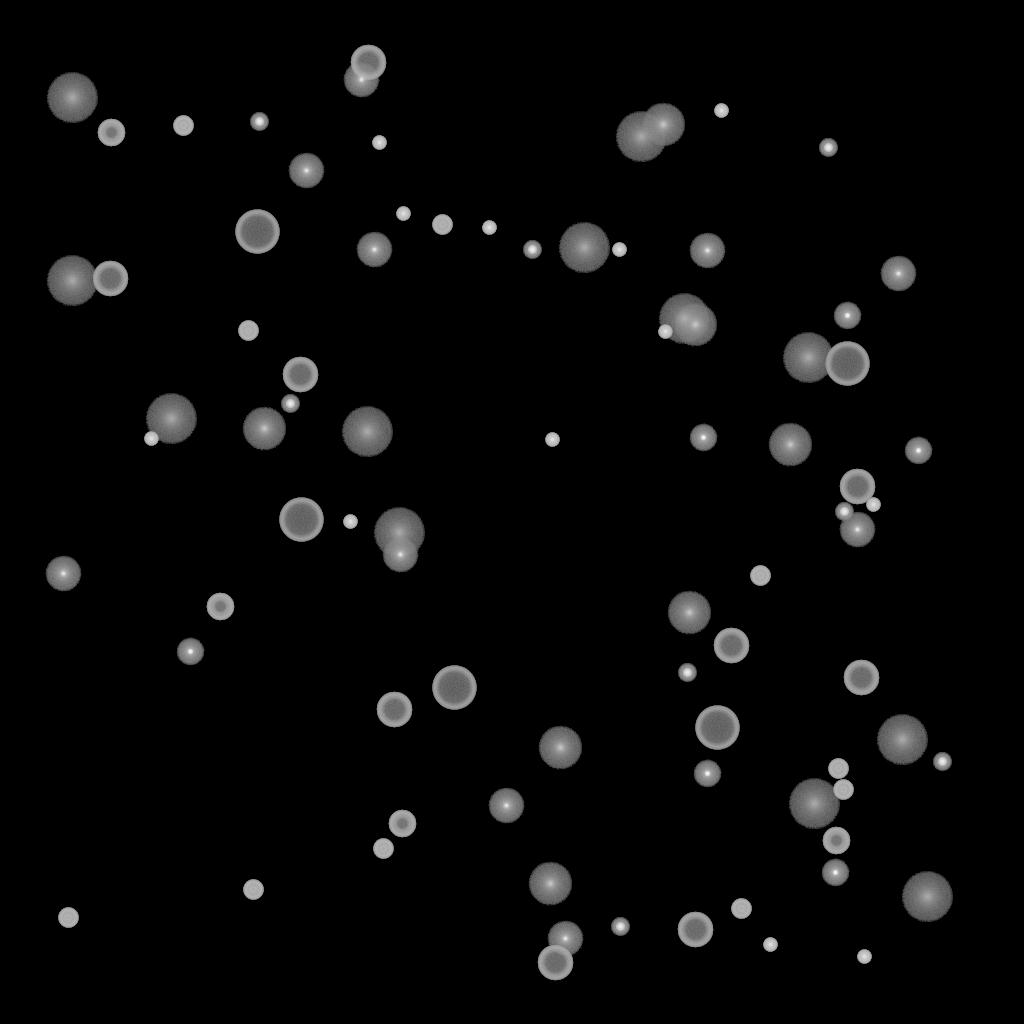depth:-10: (833, 302, 861, 330), (176, 638, 204, 666), (689, 424, 717, 452), (693, 760, 721, 788), (821, 859, 849, 887), (904, 437, 932, 465)
depth:-20: (933, 753, 951, 771), (523, 241, 541, 259), (678, 664, 696, 682), (835, 503, 853, 521), (611, 918, 629, 936), (250, 113, 268, 131), (281, 395, 299, 413), (819, 139, 837, 157)
depth:-30: (857, 950, 871, 964), (144, 432, 158, 446), (396, 207, 410, 221), (372, 136, 386, 150), (612, 243, 626, 257), (866, 498, 880, 512), (343, 515, 357, 529), (763, 938, 777, 952), (545, 433, 559, 447), (658, 325, 672, 339), (714, 104, 728, 118), (482, 221, 496, 235)
depth:-40: (432, 215, 452, 235), (750, 566, 770, 586), (238, 321, 258, 341), (58, 908, 78, 928), (828, 759, 848, 779), (833, 780, 853, 800), (731, 899, 751, 919), (243, 880, 263, 900), (173, 116, 193, 136), (373, 839, 393, 859)
depth:-50: (388, 810, 416, 838), (822, 827, 850, 855), (97, 119, 125, 147), (206, 593, 234, 621)
depth:-60: (839, 469, 875, 505), (713, 628, 749, 664), (92, 261, 128, 297), (537, 945, 573, 981), (282, 357, 318, 393), (376, 692, 412, 728), (677, 912, 713, 948), (350, 45, 386, 81), (843, 660, 879, 696)
depth:-70: (825, 342, 869, 386), (695, 706, 739, 750), (432, 666, 476, 710), (235, 210, 279, 254), (279, 498, 323, 542)
depth:0: (547, 921, 583, 957), (288, 153, 324, 189), (839, 512, 875, 548), (343, 62, 379, 98), (488, 788, 524, 824), (45, 556, 81, 592), (880, 256, 916, 292), (382, 537, 418, 573), (356, 232, 392, 268), (689, 233, 725, 269)
depth:10: (667, 591, 711, 635), (673, 303, 717, 347), (768, 423, 812, 467), (641, 103, 685, 147), (242, 407, 286, 451), (528, 862, 572, 906), (538, 726, 582, 770)
depth:20: (782, 333, 834, 383), (615, 112, 667, 162), (558, 223, 610, 273), (145, 394, 197, 444), (901, 872, 953, 922), (373, 508, 425, 558), (876, 715, 928, 765), (658, 294, 710, 344), (341, 407, 393, 457), (788, 779, 840, 829), (46, 256, 98, 306), (46, 73, 98, 123)
